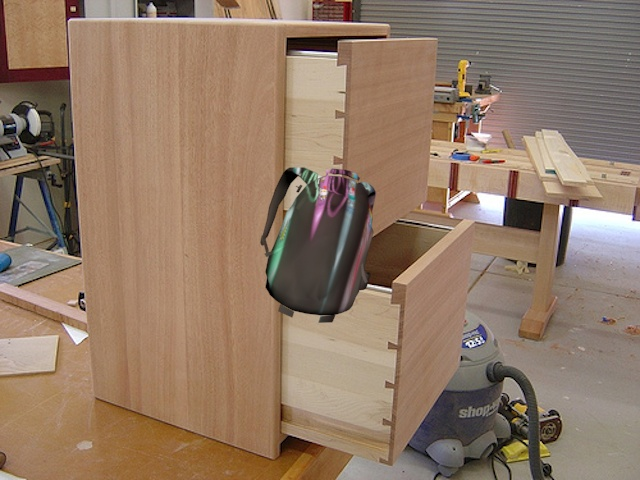back_pack: (256, 160, 385, 336)
